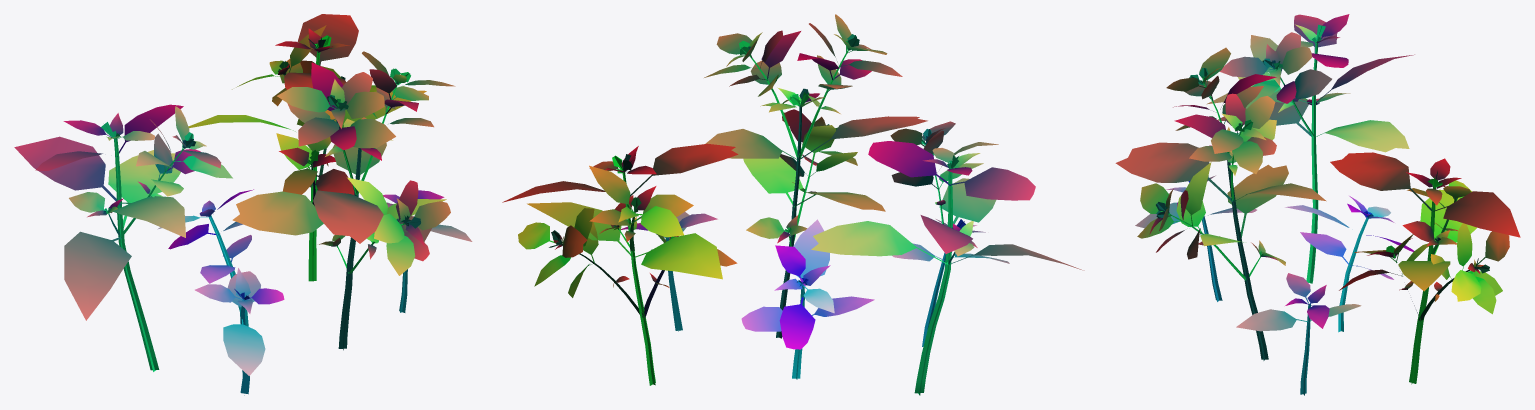
The model's file is Common_Hemp_Nettle_xh1kdfbqx_Low_xh1kdfbqx_VarG_LOD0.fbx.
3 renders of one model, left to right at view 1: azimuth 30°, elevation 25°; view 2: azimuth 150°, elevation 25°; view 3: azimuth 270°, elevation 25°, orthographic. The views are drawn at different scales.
Parts seen in each view (by area): view 1: _6ac8_VarG_LOD2; view 2: _6ac8_VarG_LOD2; view 3: _6ac8_VarG_LOD2.
Boxes of the visible parts, box(x1,y1,x2,y2) form: _6ac8_VarG_LOD2: box(14, 14, 472, 395); _6ac8_VarG_LOD2: box(502, 14, 1084, 395); _6ac8_VarG_LOD2: box(1115, 14, 1520, 395).
Bounding box in the file's own units: 145 × 92.08 × 120.
